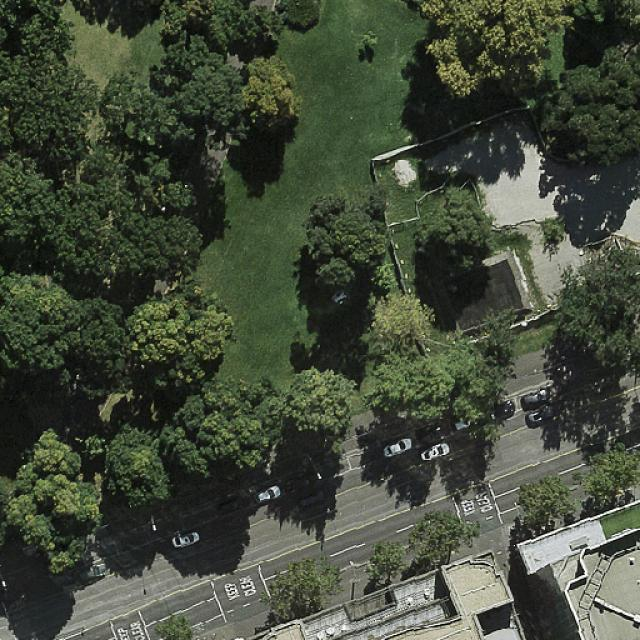Bike-Symbols: (190, 623, 208, 635)
